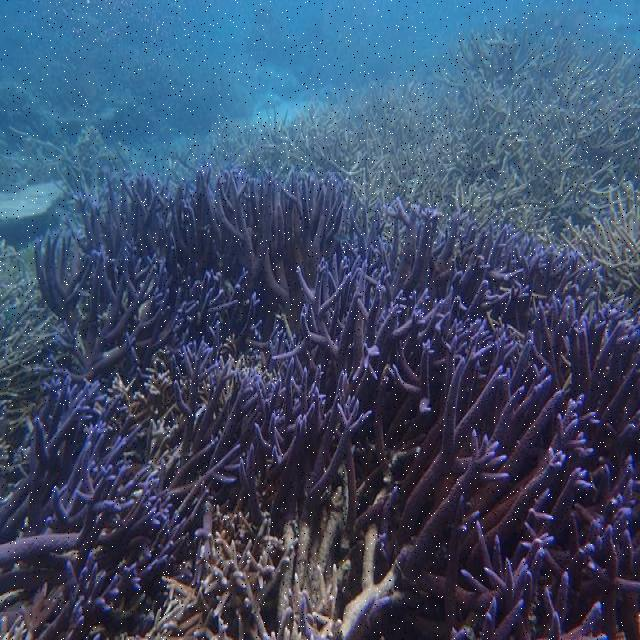reefs: (1, 165, 638, 638)
